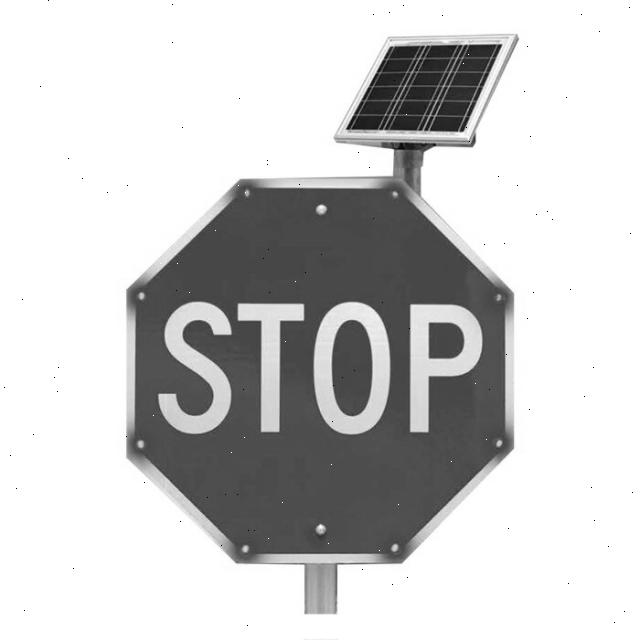Stop-sign: (90, 163, 533, 567)
